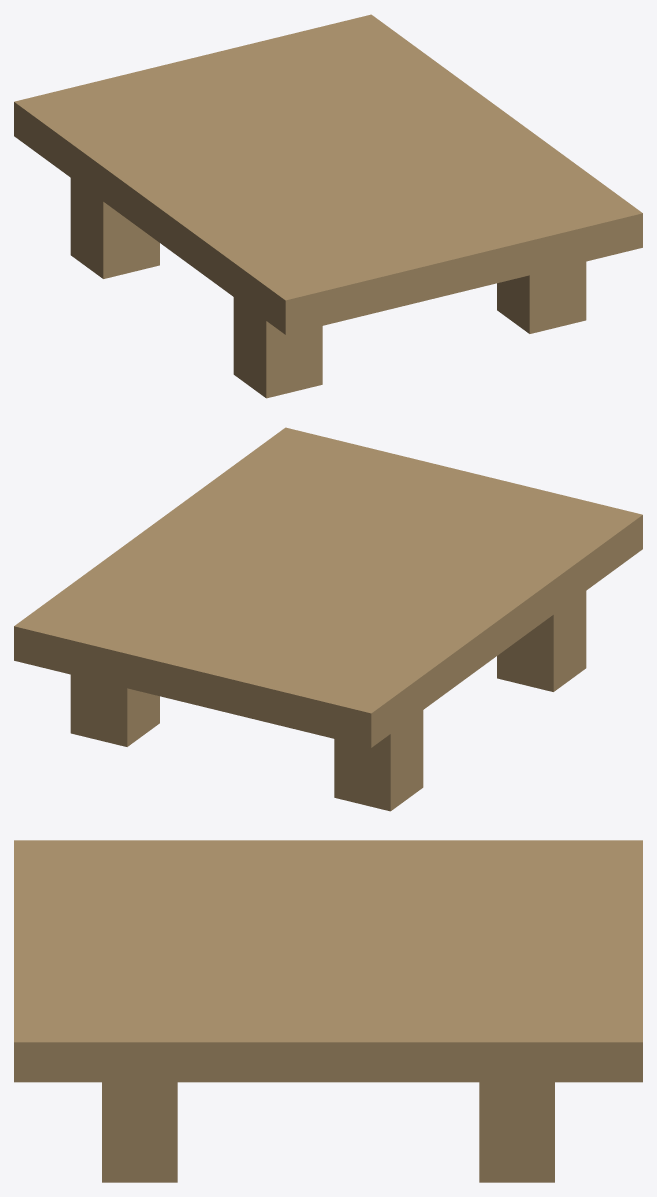
The model's file is road_viaduct.glb.
3 renders of one model, top to bottom at view 1: azimuth 30°, elevation 25°; view 2: azimuth 150°, elevation 25°; view 3: azimuth 270°, elevation 25°, orthographic. The views are drawn at different scales.
Visible parts, largest first — view 1: road_viaduct; view 2: road_viaduct; view 3: road_viaduct.
Part boxes in pixels (x1,y1,x2,y2): road_viaduct: [14, 14, 642, 398]; road_viaduct: [14, 427, 642, 811]; road_viaduct: [14, 840, 642, 1182].
Bounding box in the file's own units: 0.76 × 0.265 × 1.
